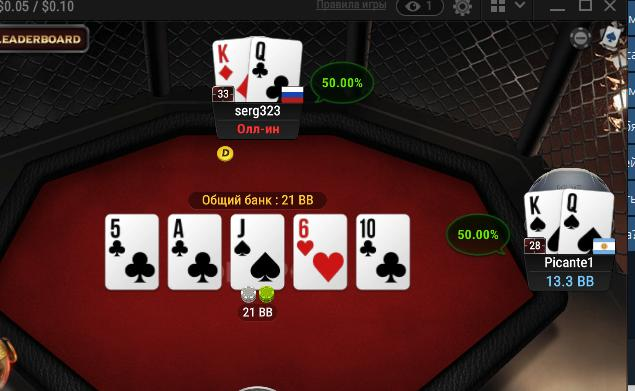10c: (356, 214, 409, 287)
5c: (105, 215, 158, 288)
6h: (294, 214, 347, 289)
Ac: (168, 215, 222, 288)
Js: (231, 215, 284, 289)
Kd: (212, 39, 249, 102)
Ks: (523, 191, 560, 254)
Qc: (249, 37, 302, 101)
Qs: (561, 189, 614, 255)
